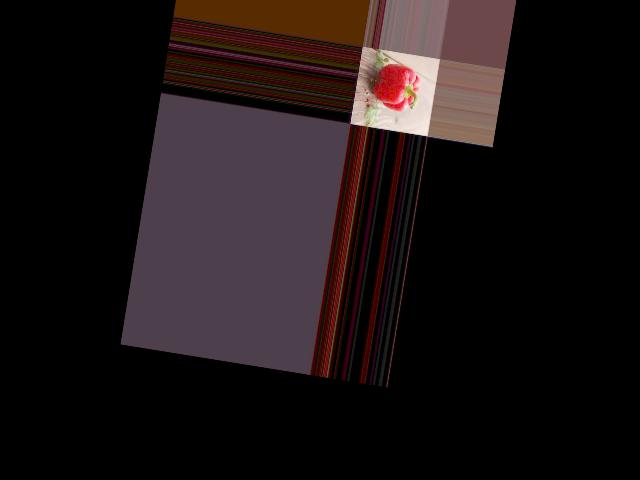bell_pepper: (369, 58, 427, 117)
